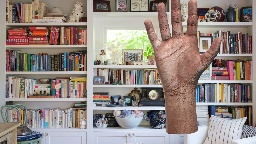Mano_aperta: (142, 0, 222, 90)
